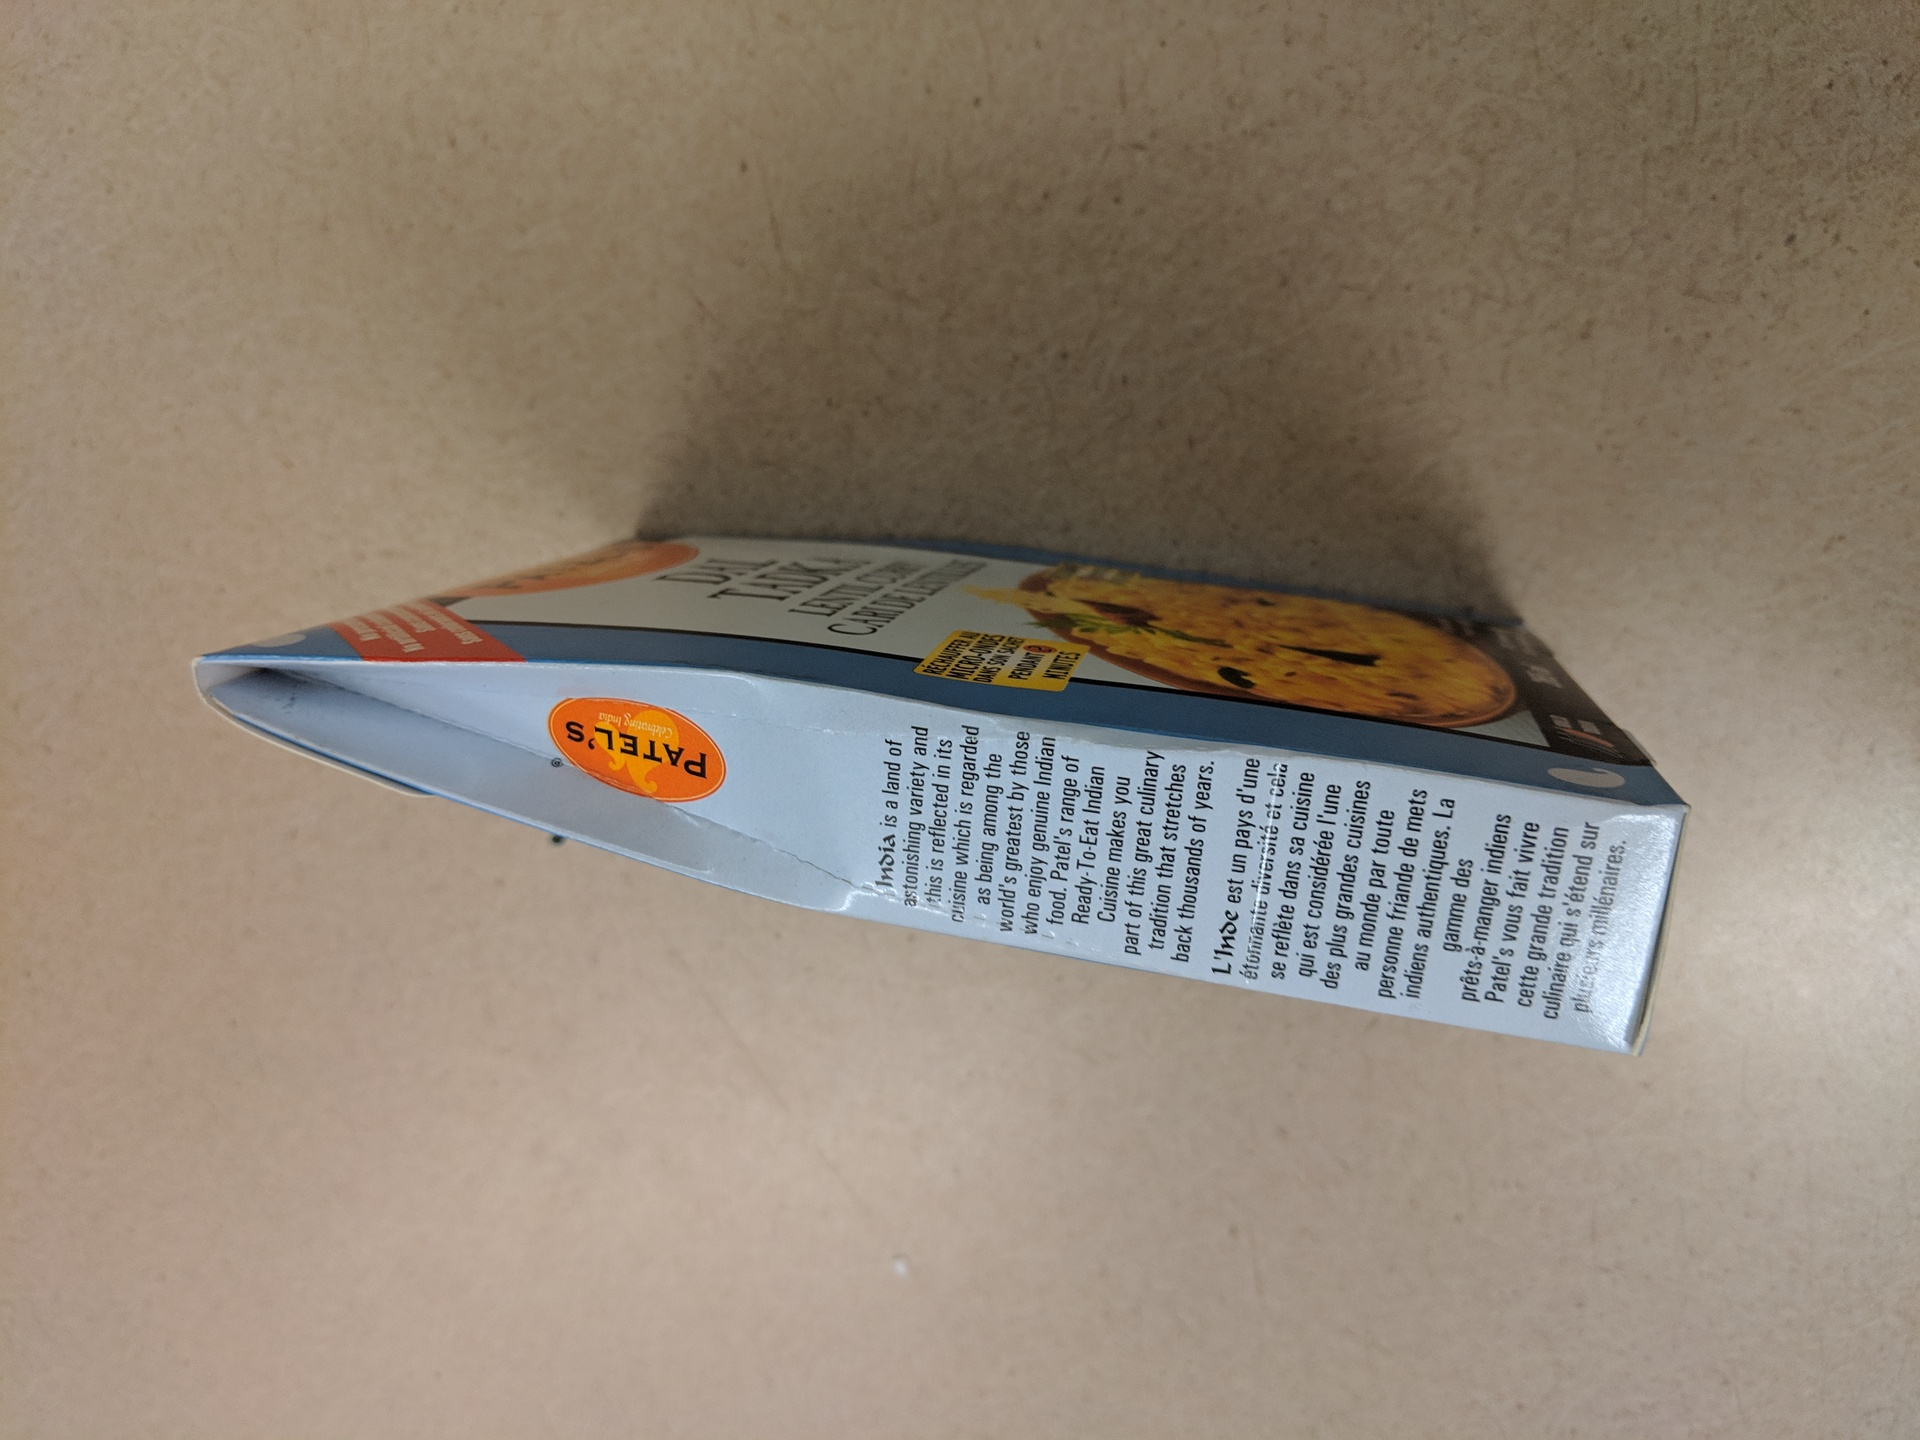patels_dal_tadka_lentil_curry: (187, 464, 1716, 1134)
